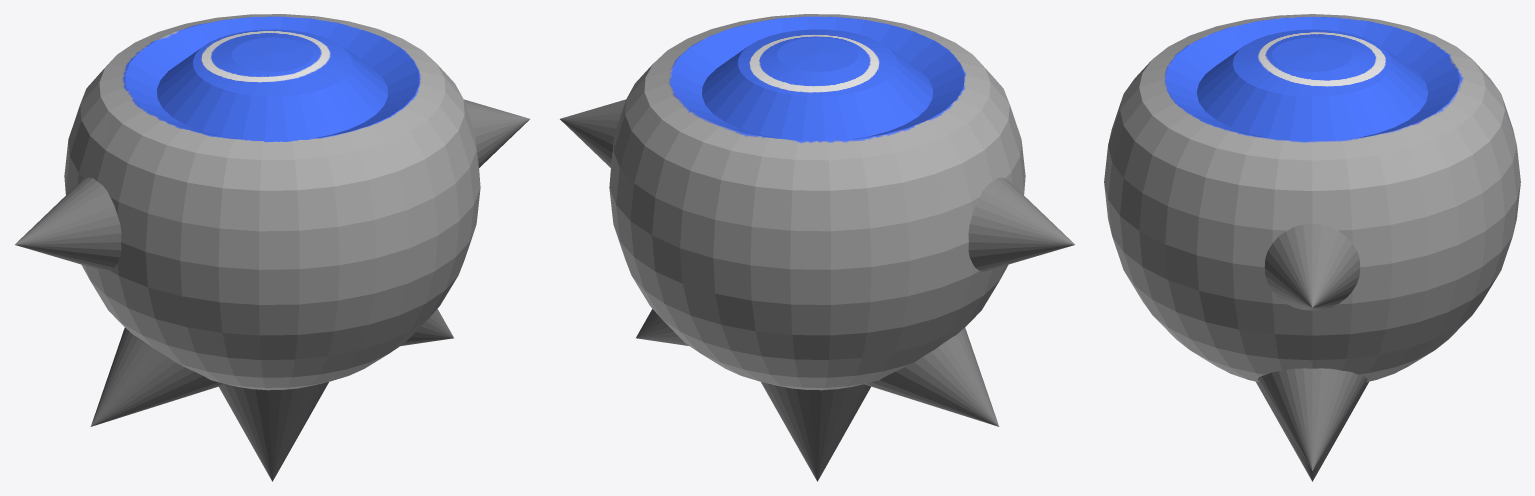
The model's file is DropEnemy_timed.obj.
The picture shows the model from 3 angles, left to right: view 1: azimuth 30°, elevation 25°; view 2: azimuth 150°, elevation 25°; view 3: azimuth 270°, elevation 25°; orthographic projection.
Visible parts, largest first — view 1: 球; view 2: 球; view 3: 球.
Part boxes in pixels (box(x1,y1,x2,y2)): 球: box(15, 14, 529, 481); 球: box(560, 14, 1074, 481); 球: box(1104, 14, 1520, 481).
Size of the model in its own units: 2 by 1.59 by 1.4.
Materials: 1 (1 with a texture image).
